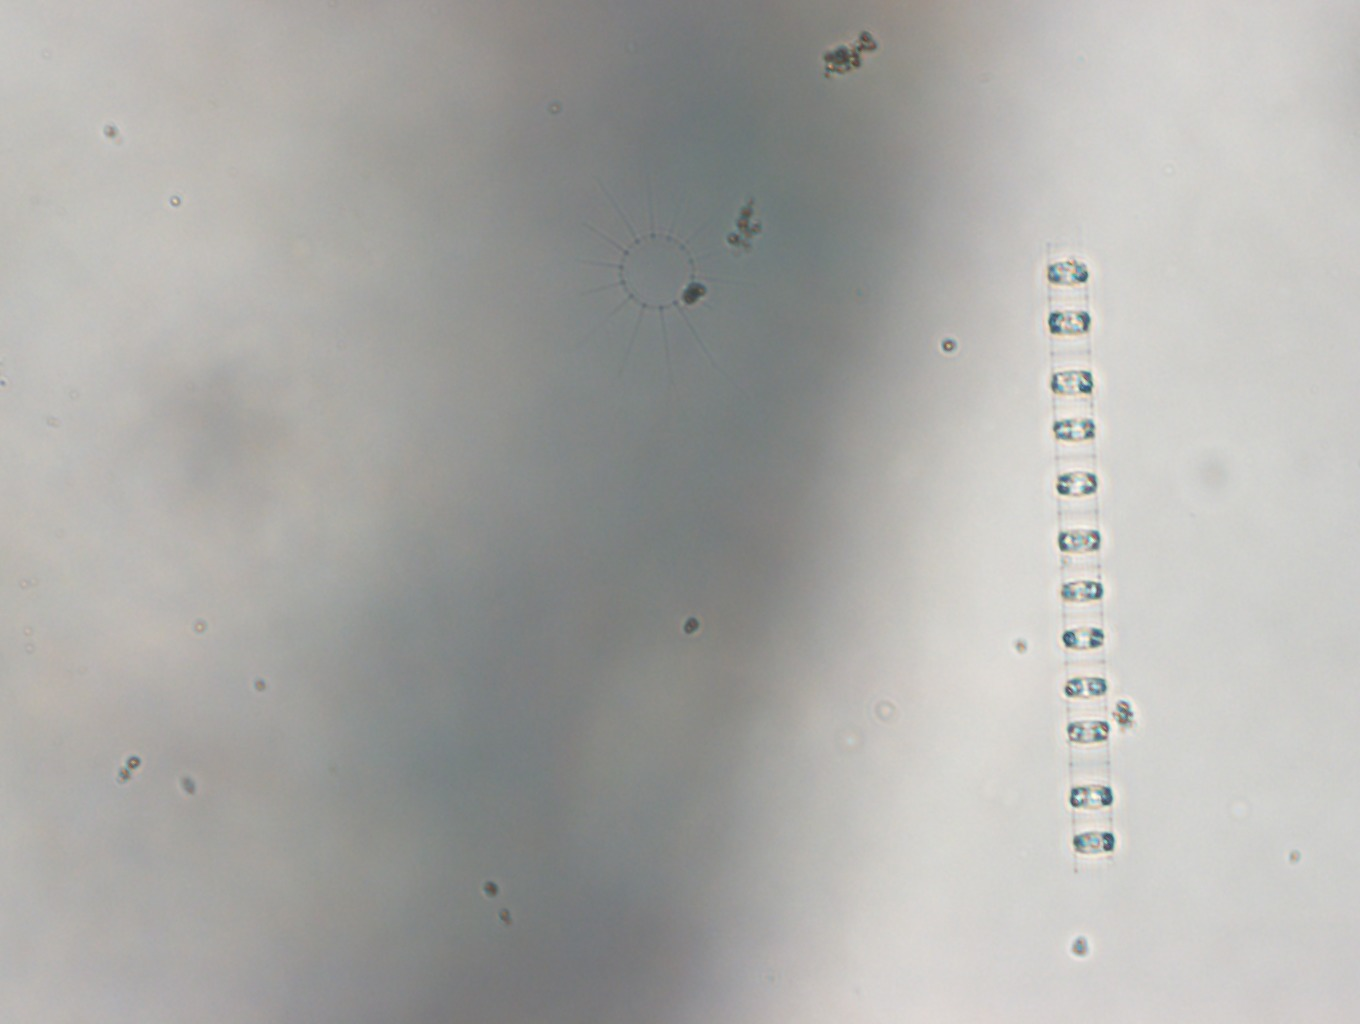bacteriastrum: (552, 163, 772, 392)
skeletonema: (1041, 234, 1115, 880)
